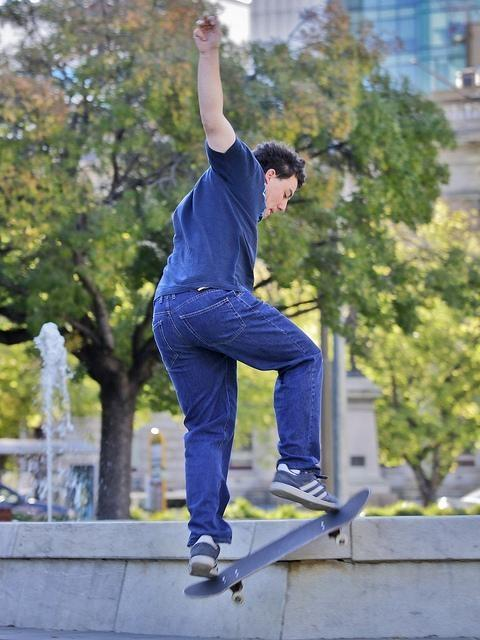car: (1, 482, 74, 522)
